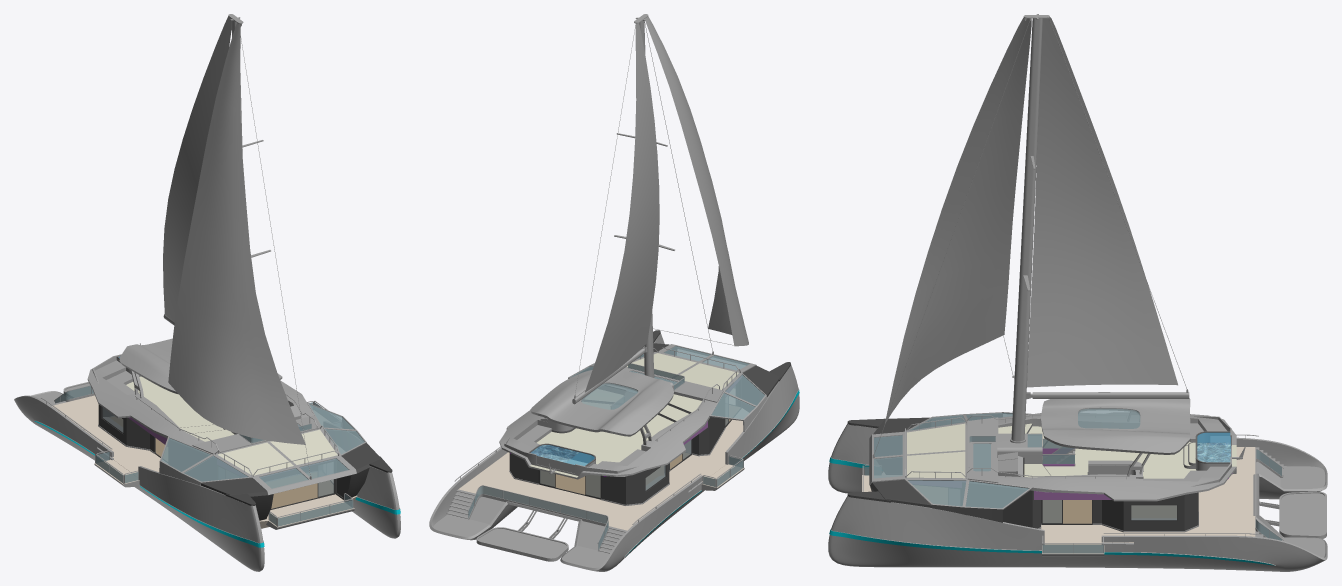
File: VR_Yacht_Exterior_04.fbx
3 views of the same model, side by side, from view 1: azimuth 30°, elevation 25°; view 2: azimuth 150°, elevation 25°; view 3: azimuth 270°, elevation 25° (orthographic). The views are drawn at different scales.
Parts seen in each view (by area): view 1: Yatch, Glass1; view 2: Yatch, Glass1, Glasses88; view 3: Yatch, Glass1, Glasses88, Glasses68.
Boxes of the visible parts, x1,y1,x2,y2 form: Yatch: (14,14,400,571); Glass1: (55,386,364,526); Yatch: (429,14,799,571); Glass1: (468,346,764,549); Glasses88: (581,383,637,409); Yatch: (828,14,1327,571); Glass1: (864,413,1281,553); Glasses88: (1078,408,1140,428); Glasses68: (1131,505,1176,520).
Bounding box in the file's own units: 2743 × 4940 × 5615.
